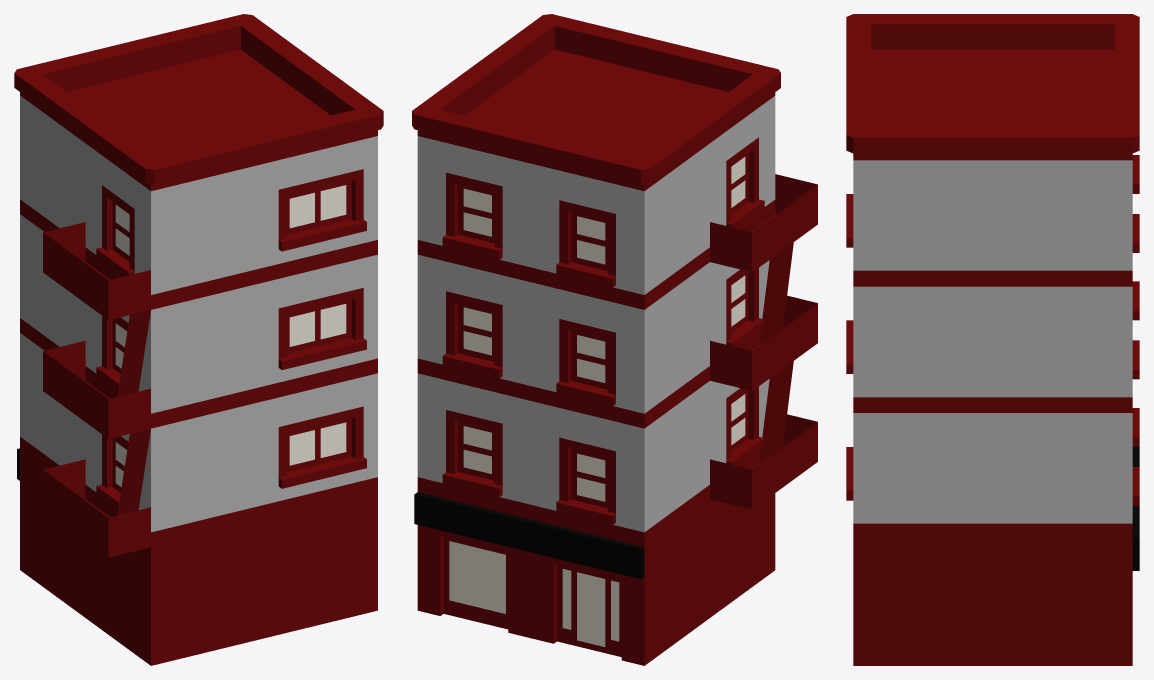
The picture shows the model from 3 angles, left to right: view 1: azimuth 30°, elevation 25°; view 2: azimuth 150°, elevation 25°; view 3: azimuth 270°, elevation 25°; orthographic projection. The views are drawn at different scales.
Parts seen in each view (by area): view 1: large_buildingC; view 2: large_buildingC; view 3: large_buildingC.
Part boxes in pixels (box(x1,y1,x2,y2)): large_buildingC: box(14, 14, 383, 665); large_buildingC: box(412, 14, 817, 665); large_buildingC: box(846, 14, 1139, 665).
Size of the model in its own units: 0.97 by 1.68 by 0.84.
